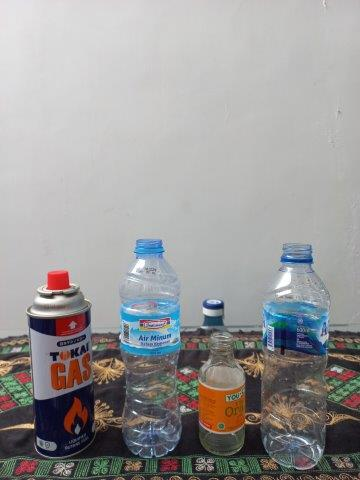botolkaca: (197, 333, 247, 455)
botolplastik: (262, 245, 331, 468), (120, 238, 183, 456)
kaleng: (27, 270, 96, 459)
